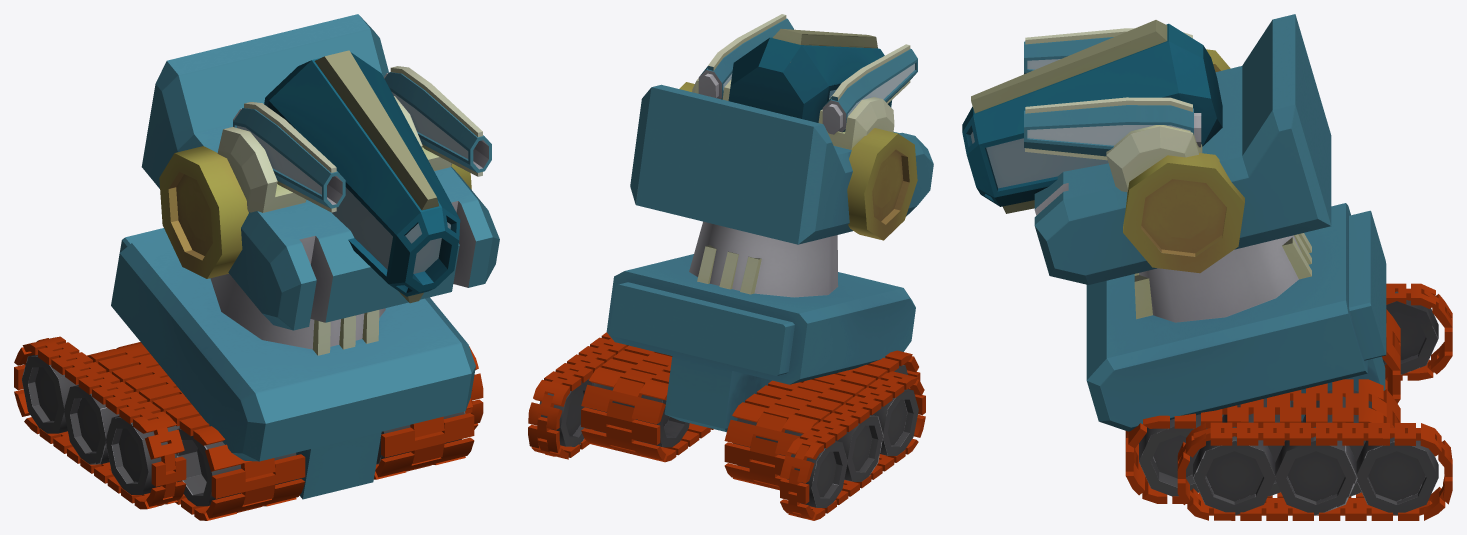
Rendered from player_move_2_upgrade4.obj.
3 views of the same model, side by side, from view 1: azimuth 30°, elevation 25°; view 2: azimuth 150°, elevation 25°; view 3: azimuth 270°, elevation 25° (orthographic). The views are drawn at different scales.
Visible parts, largest first — view 1: Object004, Object012, Box038, Box043, Object013, Box042, Object011, Box044; view 2: Object004, Box038, Box042, Box043, Object012, Object013, Box044, Object011, Object014; view 3: Object004, Object014, Box044, Object012, Box042, Object011, Object013, Box043, Box038.
Part boxes in pixels (x1,y1,x2,y2): Object004: (111,14,499,499); Object012: (233,66,491,212); Box038: (87,342,305,520); Box043: (14,336,186,509); Object013: (21,355,176,494); Box042: (374,398,474,479); Object011: (169,411,465,506); Box044: (465,346,483,429); Object004: (606,28,933,432); Box038: (724,350,920,490); Box042: (581,345,713,462); Box043: (780,371,925,520); Object012: (698,14,917,134); Object013: (787,389,918,507); Box044: (528,332,628,459); Object011: (589,365,907,475); Object014: (539,378,594,446); Object004: (962,14,1386,431); Object014: (1193,426,1438,515); Box044: (1177,422,1452,520); Object012: (1024,28,1201,160); Box042: (1125,379,1400,503); Object011: (1139,359,1384,496); Object013: (1384,291,1438,374); Box043: (1386,283,1452,380); Box038: (1382,309,1400,403).
Bounding box in the file's own units: 139 × 177 × 187.
4 materials, 2 textured.
